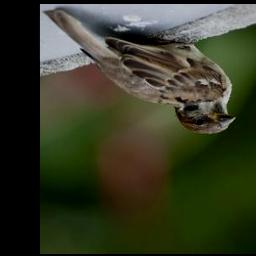Sparrow: (44, 7, 237, 136)
